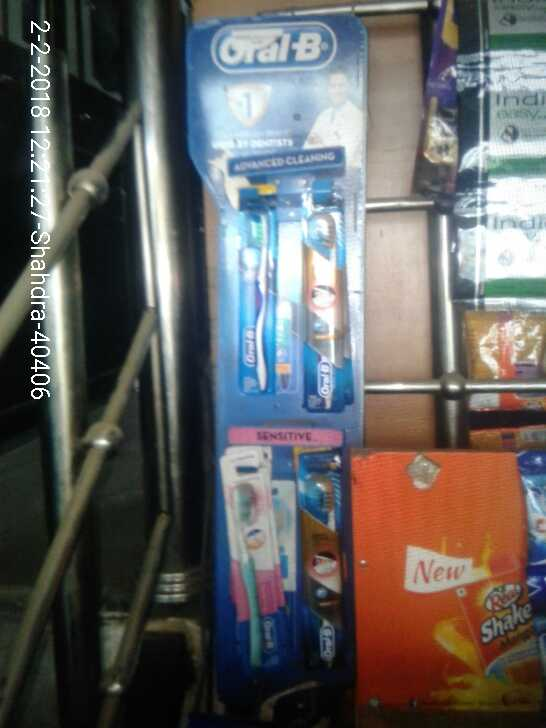oralb: (223, 479, 275, 687), (301, 215, 350, 412), (299, 470, 343, 670), (228, 217, 279, 388)
